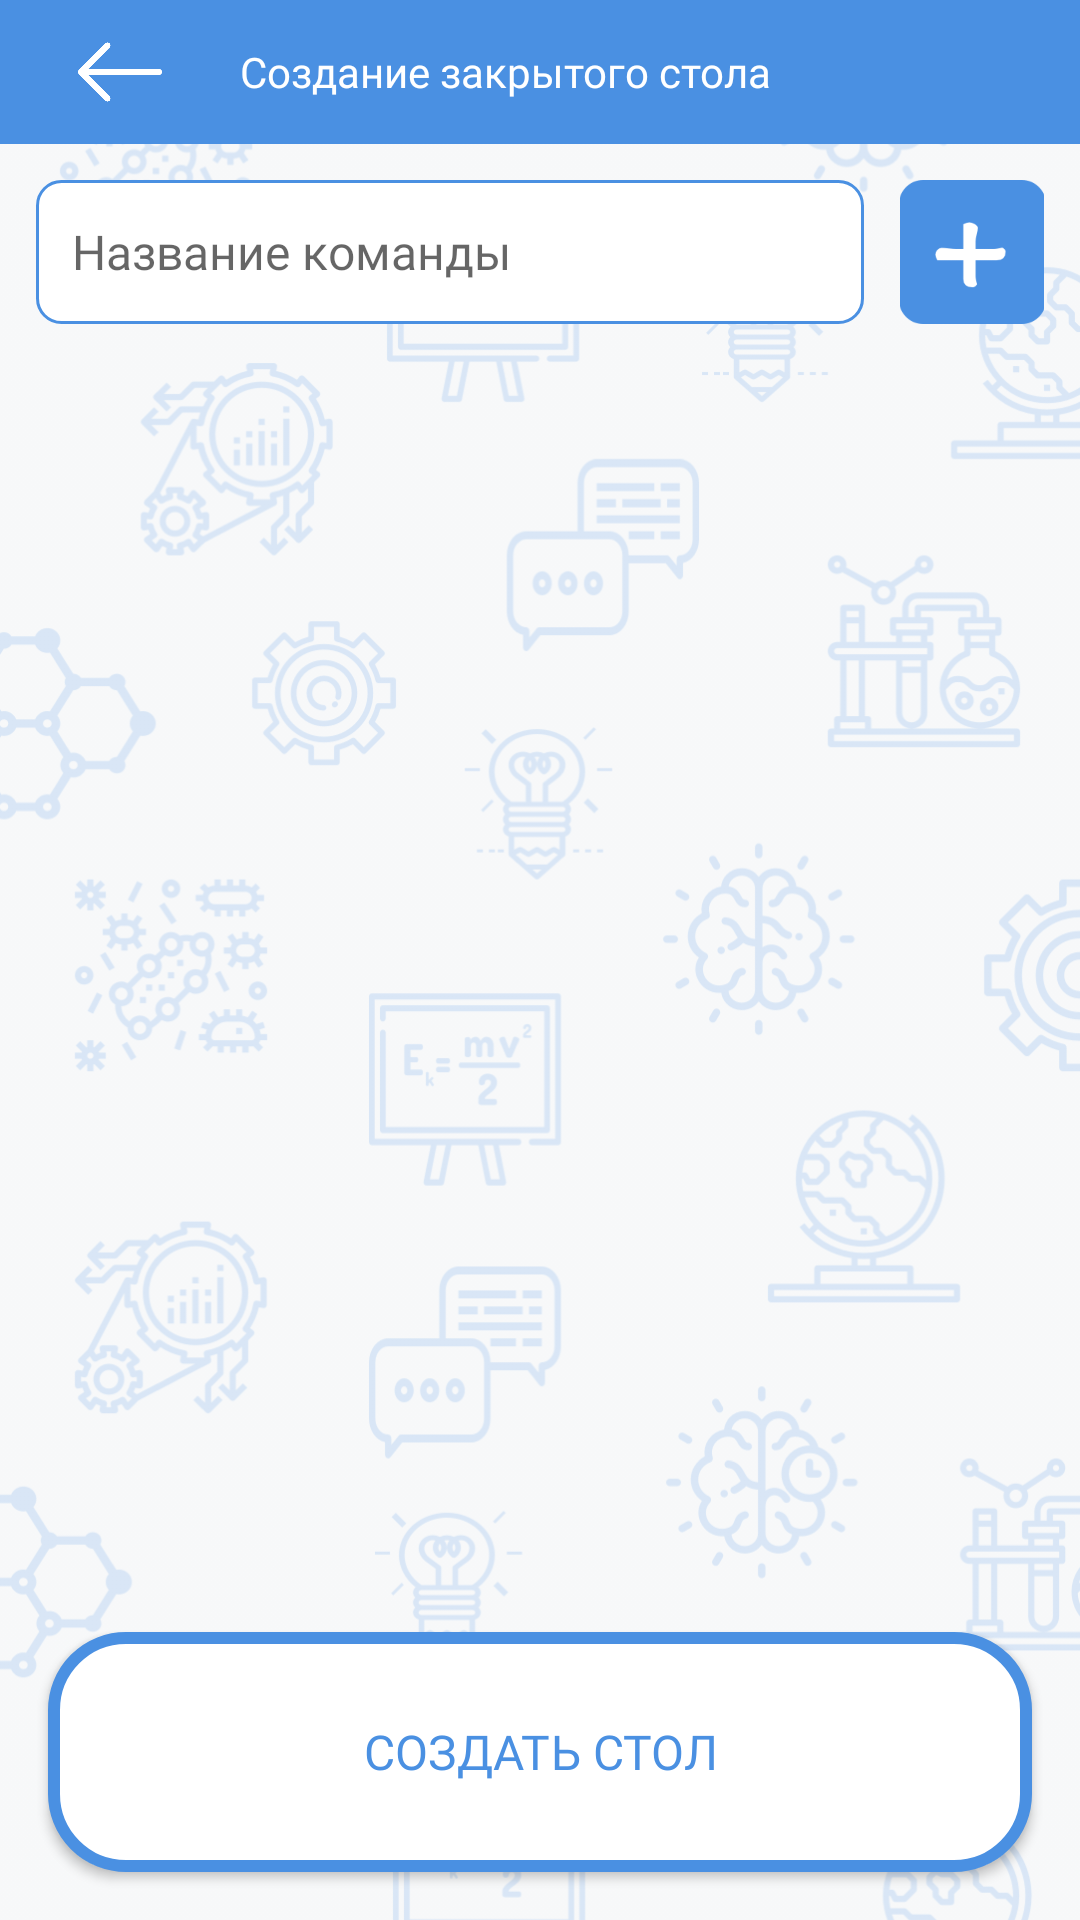

Screen size 1080px x 1920px. Icon name, then its box in pixels as bbox=(x1, y1, x2, y2):
add: bbox=(900, 180, 1044, 324)
back: bbox=(78, 42, 162, 102)
